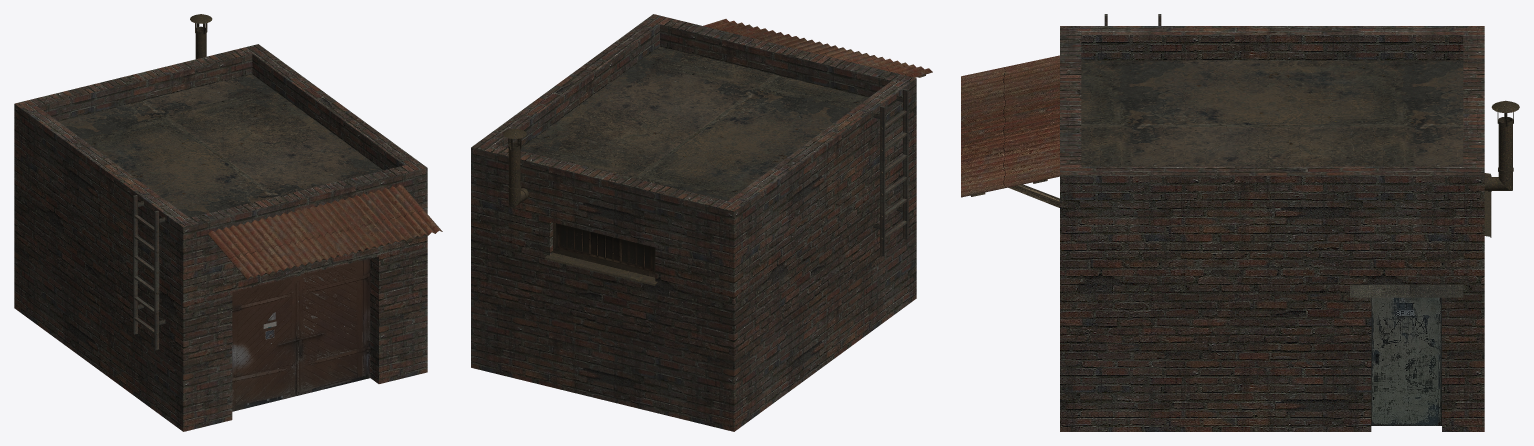
The model's file is garage_hm_2.glb.
3 renders of one model, left to right at view 1: azimuth 30°, elevation 25°; view 2: azimuth 150°, elevation 25°; view 3: azimuth 270°, elevation 25°, orthographic. The views are drawn at different scales.
Parts seen in each view (by area): view 1: garage_hm_2; view 2: garage_hm_2; view 3: garage_hm_2.
Boxes of the visible parts, left/top/right/bottom form: garage_hm_2: left=14, top=14, right=442, bottom=431; garage_hm_2: left=471, top=14, right=932, bottom=431; garage_hm_2: left=961, top=14, right=1519, bottom=431.
Bounding box in the file's own units: 5.22 × 4.7 × 7.9.
10 materials, 10 textured.
